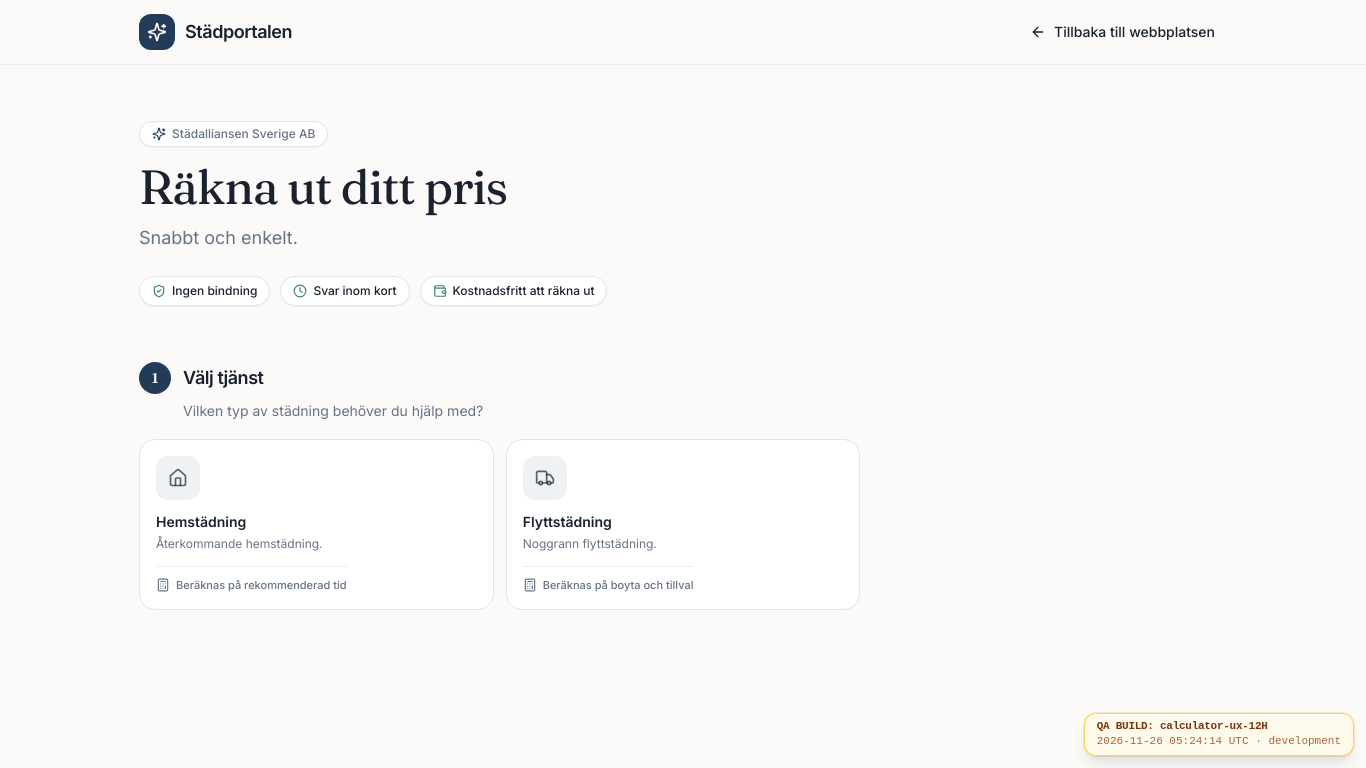
Scenario: PriceCalculator — submit (write path) › renders the real contact fields when the calculator is enabled
Click the button "Hemstädning" at (178, 478), box [139, 439, 494, 610]
(page scrolled)
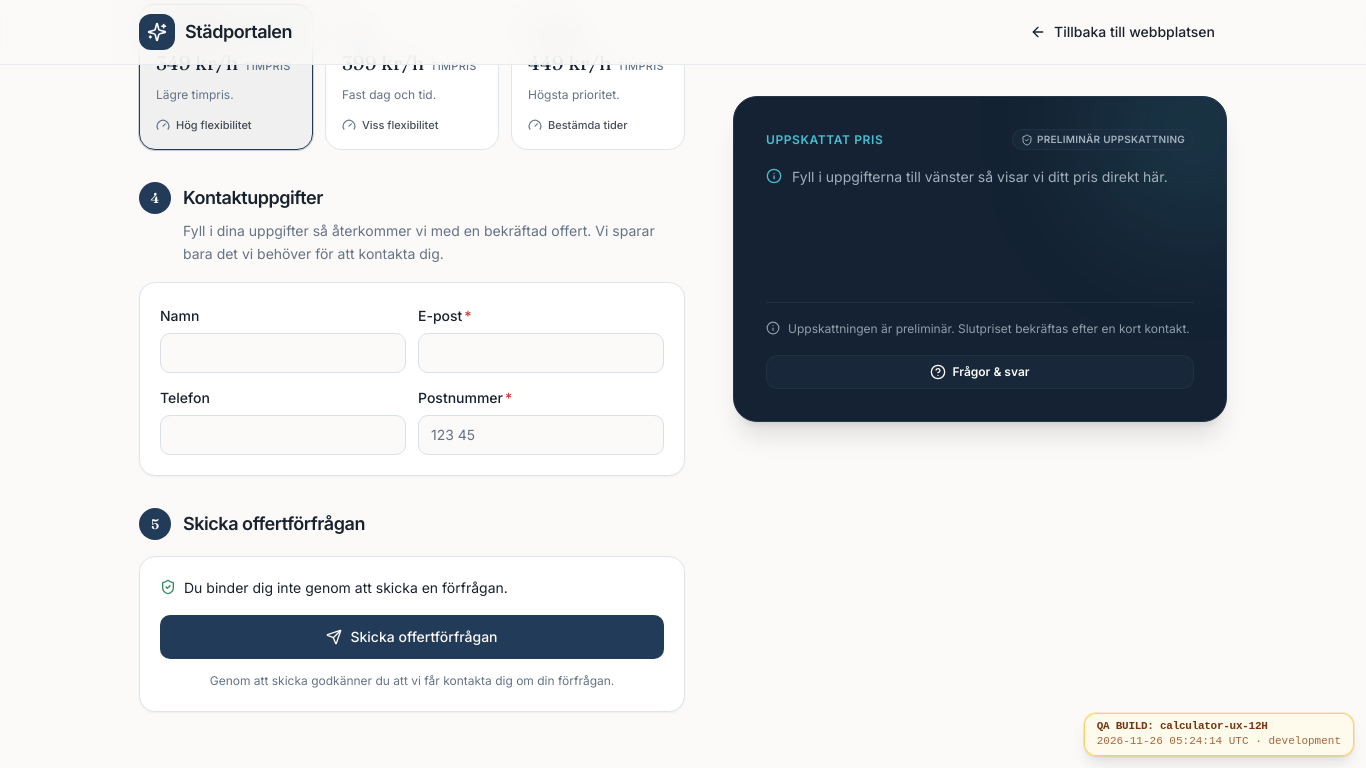
Expected: the field labelled "Namn" is shown, [160, 332, 406, 372]
Expected: the field labelled "E-post*" is shown, [418, 332, 664, 372]
Expected: the field labelled "Telefon" is shown, [160, 414, 406, 454]
